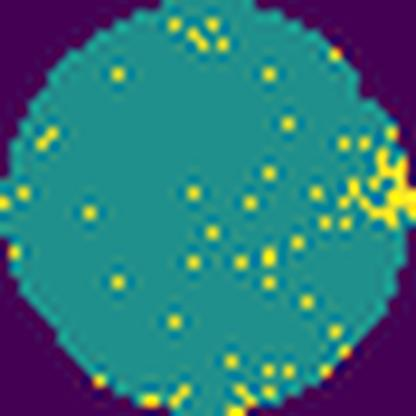Edge-Loc: (333, 145, 415, 230)
